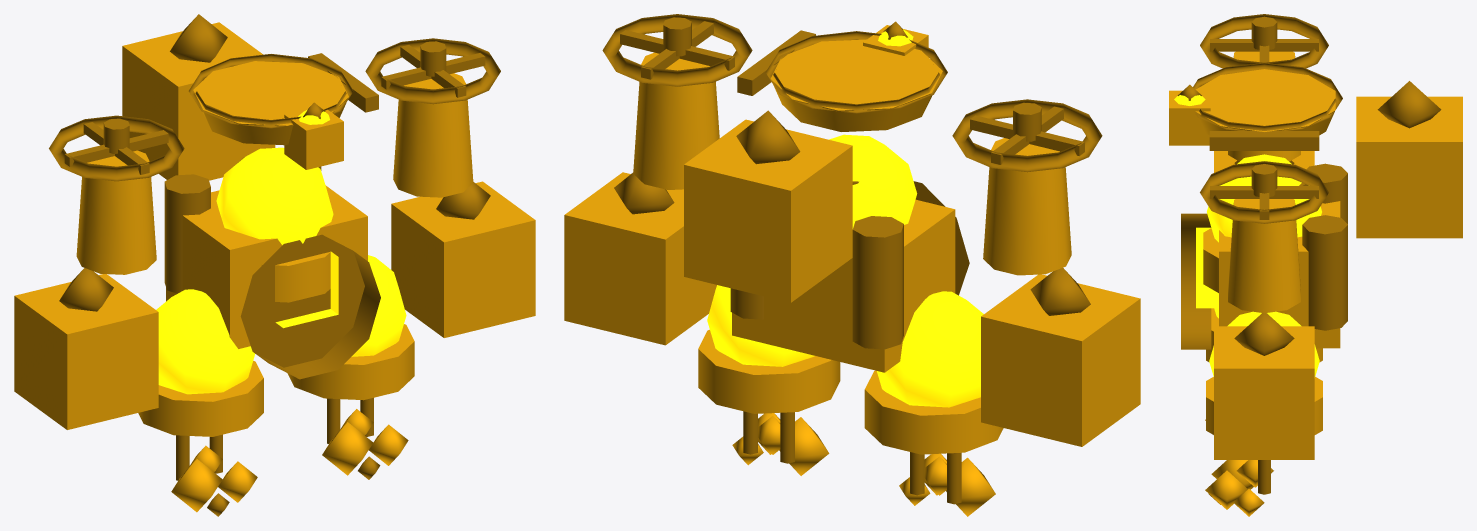
File: golem_063.glb
The picture shows the model from 3 angles, left to right: view 1: azimuth 30°, elevation 25°; view 2: azimuth 150°, elevation 25°; view 3: azimuth 270°, elevation 25°; orthographic projection. The views are drawn at different scales.
Visible parts, largest first — view 1: Body, Detail, Glow; view 2: Body, Detail, Glow; view 3: Body, Detail, Glow.
Boxes of the visible parts, x1,y1,x2,y2 form: Body: (14, 22, 535, 512); Detail: (49, 14, 500, 516); Glow: (156, 109, 406, 394); Body: (564, 25, 1140, 516); Detail: (602, 14, 1102, 504); Glow: (707, 29, 983, 407); Body: (1169, 51, 1462, 516); Detail: (1177, 14, 1441, 504); Glow: (1174, 95, 1321, 377).
Bounding box in the file's own units: 1.28 × 1.07 × 0.7298.
